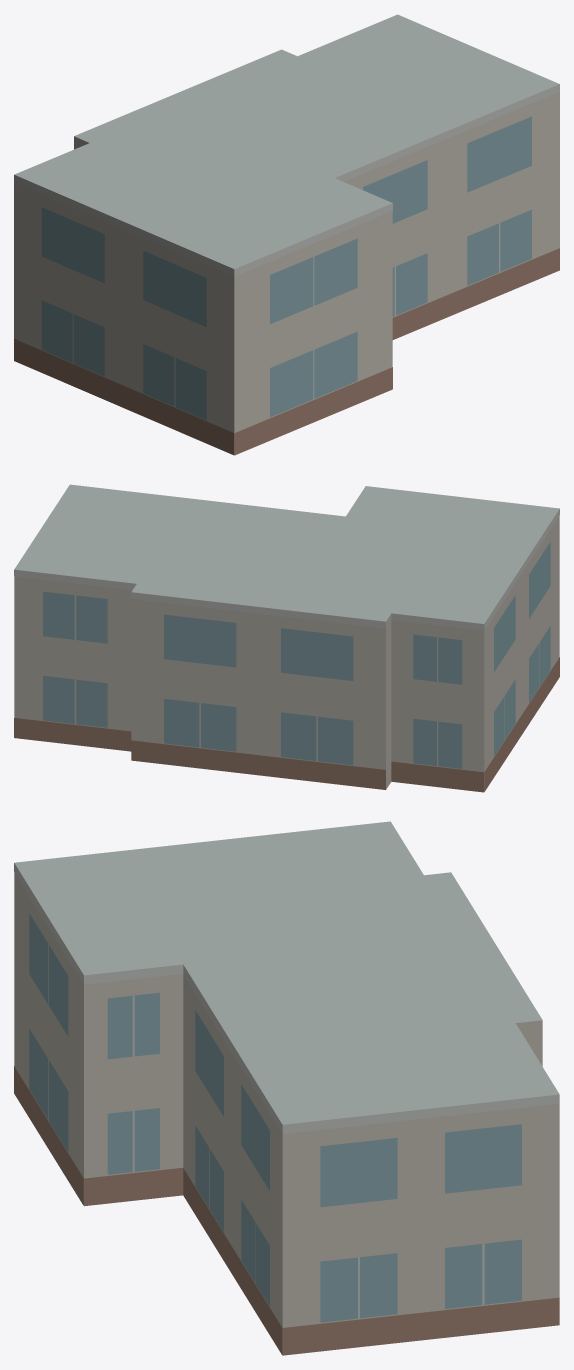
Rendered from survey-upis-32918871.glb.
3 views of the same model, one above another, from view 1: azimuth 30°, elevation 25°; view 2: azimuth 150°, elevation 25°; view 3: azimuth 270°, elevation 25° (orthographic). The views are drawn at different scales.
Visible parts, largest first — view 1: survey-upis-32918871.tmp; view 2: survey-upis-32918871.tmp; view 3: survey-upis-32918871.tmp.
Boxes of the visible parts, <box> form: survey-upis-32918871.tmp: <box>14,14,559,455</box>; survey-upis-32918871.tmp: <box>14,484,559,792</box>; survey-upis-32918871.tmp: <box>14,821,559,1355</box>.
Size of the model in its own units: 17.22 by 6.1 by 13.08.
